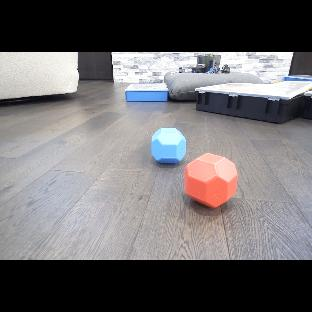V5_BLUE: (152, 128, 187, 164)
V5_RED: (184, 155, 239, 208)
